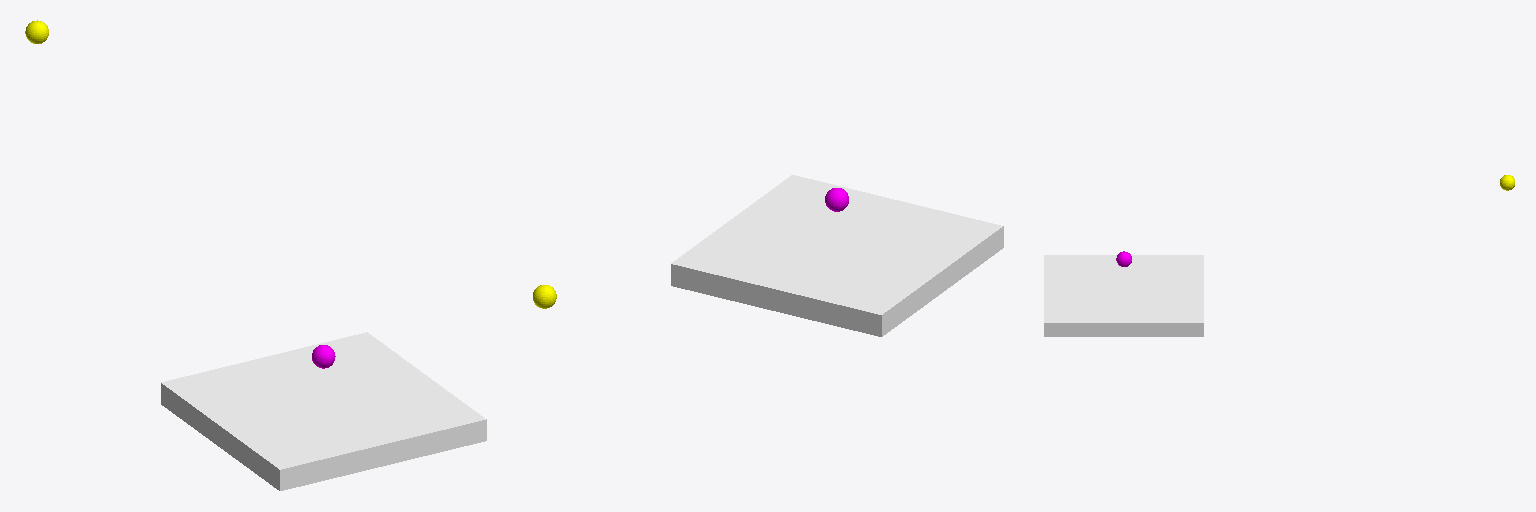
robot.urdf — myrobot:
<?xml version="1.0"?>

<robot name="myrobot">

  <!-- ******************** Materials ******************** -->

  <material name="white">    <color rgba="1.00 1.00 1.00 1"/>  </material>
  <material name="gray">     <color rgba="0.60 0.60 0.60 1"/>  </material>

  <material name="hebired">  <color rgba="0.82 0.06 0.06 1"/>  </material>

  <material name="red">      <color rgba="1.00 0.00 0.00 1"/>  </material>
  <material name="green">    <color rgba="0.00 1.00 0.00 1"/>  </material>
  <material name="blue">     <color rgba="0.00 0.00 1.00 1"/>  </material>

  <material name="cyan">     <color rgba="0.00 1.00 1.00 1"/>  </material>
  <material name="magenta">  <color rgba="1.00 0.00 1.00 1"/>  </material>
  <material name="yellow">   <color rgba="1.00 1.00 0.00 1"/>  </material>

  <!-- ******************** Kinematics ******************** -->

  <joint name="z_rotate" type="continuous">
    <parent link="world"/>
    <child  link="link1"/>
    <origin xyz="0 0 0" rpy="0 0 0"/>
    <axis   xyz="0 0 1"/>
  </joint>

  <joint name="pitch_1" type="continuous">
    <parent link="link1"/>
    <child  link="link2"/>
    <origin xyz="0 0 .106" rpy="0 0 0"/>
    <axis   xyz="1 0 0"/>
  </joint>

  <joint name="pitch_2" type="continuous">
    <parent link="link2"/>
    <child  link="link3"/>
    <origin xyz="0 .16 0" rpy="0 0 0"/>
    <axis   xyz="-1 0 0"/>
  </joint>

  <joint name="pitch_3" type="continuous">
    <parent link="link3"/>
    <child  link="link4"/>
    <origin xyz="0 .16 0" rpy="0 0 0"/>
    <axis   xyz="1 0 0"/>
  </joint>

  <joint name="yaw" type="continuous">
    <parent link="link4"/>
    <child  link="tip"/>
    <origin xyz="0 .16 0" rpy="0 0 0"/>
    <axis   xyz="0 1 0"/>
  </joint>


  <!-- ******************** World and Tip ******************** -->
  <link name="world"> <visual>
    <geometry> <sphere radius="0.01" /> </geometry>
    <material name="magenta"/>
  </visual> </link>

  <link name="tip"> <visual>
    <geometry> <sphere radius="0.01" /> </geometry>
    <material name="yellow"/>
  </visual> </link>

  <!-- ******************** Baseplate ******************** -->
  <joint name="baseplate_attachment" type="fixed">
    <parent link="world"/> <child link="baseplate"/>
  </joint>

  <link name="baseplate"> <visual>
    <origin rpy="0 0 0" xyz="0.0 0.0 -0.051" />
    <geometry>    <box size="0.2 0.2  0.02"  /> </geometry>
    <material name="white"/>
  </visual> </link>

  <!-- ******************** Intermediate Links ******************** -->
  <link name="link1"> </link>

  <link name="link2"> </link>

  <link name="link3"> </link>

  <link name="link4"> </link>

</robot>

--- Render facts (derived) ---
The picture shows the robot from 3 angles, left to right: view 1: azimuth 30°, elevation 25°; view 2: azimuth 150°, elevation 25°; view 3: azimuth 270°, elevation 25°; orthographic projection.
Robot: myrobot — 7 links, 6 joints (5 continuous, 1 fixed); root link world; default pose: all joints at 0.
Visible links, largest first — view 1: baseplate; view 2: baseplate; view 3: baseplate.
Link boxes in pixels (x1,y1,x2,y2): baseplate: (161, 332, 486, 490); baseplate: (671, 175, 1003, 336); baseplate: (1044, 255, 1203, 336).
Size in the robot's own frame: 0.2 by 0.59 by 0.177 metres.
Geometry: primitives only (box / cylinder / sphere), no mesh files.
